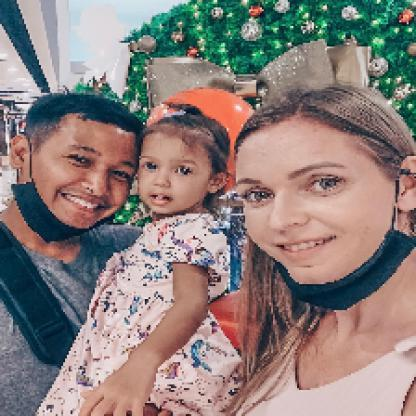child: (36, 105, 246, 415)
